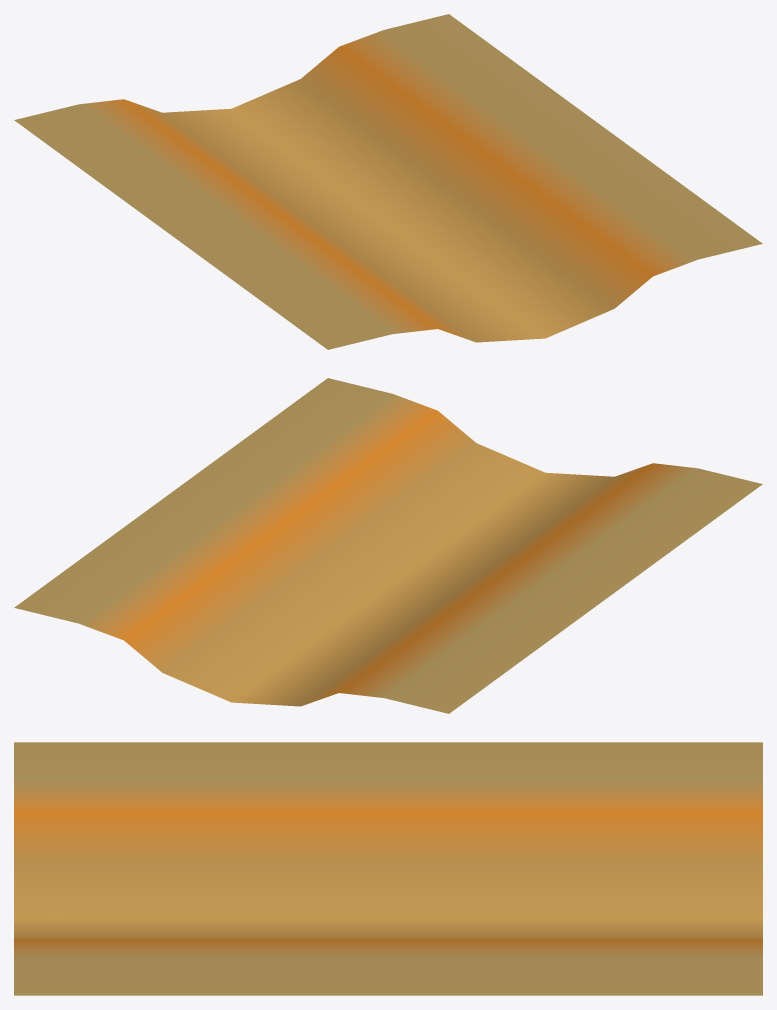
File: Sandbank_1_v1.7.fbx
3 renders of one model, top to bottom at view 1: azimuth 30°, elevation 25°; view 2: azimuth 150°, elevation 25°; view 3: azimuth 270°, elevation 25°, orthographic. The views are drawn at different scales.
Parts seen in each view (by area): view 1: Bank_1_v1_6; view 2: Bank_1_v1_6; view 3: Bank_1_v1_6.
Boxes of the visible parts, bbox=[...] form: Bank_1_v1_6: bbox=[14, 14, 762, 349]; Bank_1_v1_6: bbox=[14, 378, 762, 713]; Bank_1_v1_6: bbox=[14, 742, 762, 995].
Bounding box in the file's own units: 6400 × 586 × 8000.
